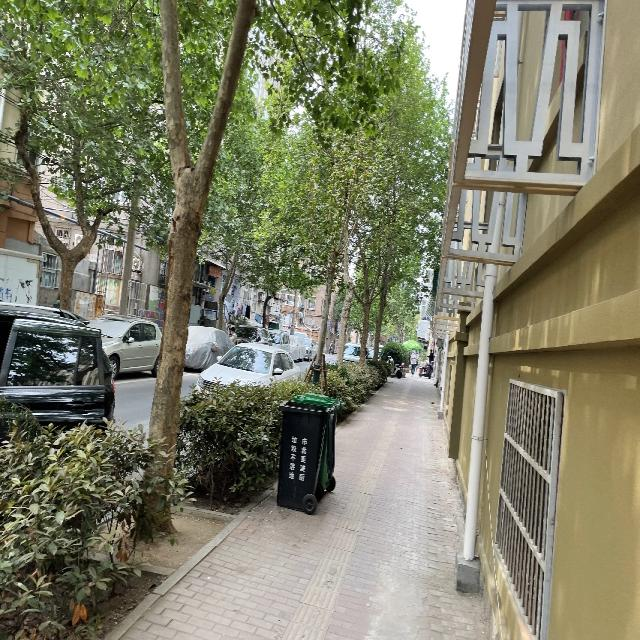garbage_bin: (275, 399, 327, 510)
